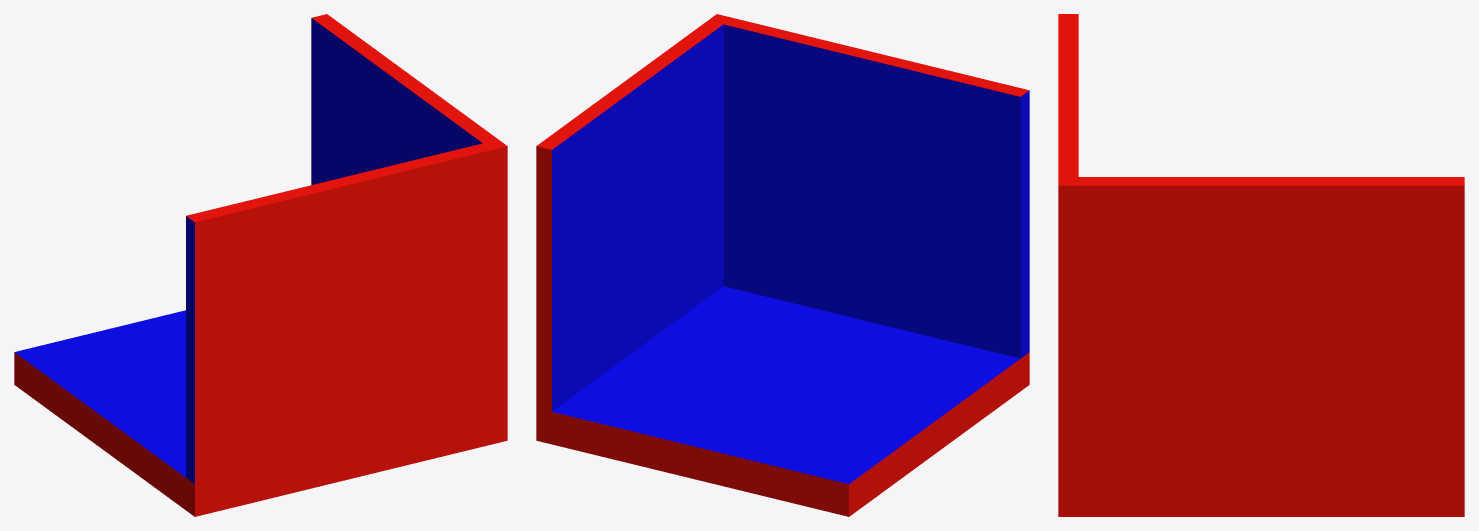
Rendered from corner.obj.
The picture shows the model from 3 angles, left to right: view 1: azimuth 30°, elevation 25°; view 2: azimuth 150°, elevation 25°; view 3: azimuth 270°, elevation 25°; orthographic projection. The views are drawn at different scales.
Parts seen in each view (by area): view 1: wall3, floor, wall2; view 2: wall3, floor, wall2; view 3: wall2, floor, wall3.
Boxes of the visible parts, bbox=[...] form: wall3: bbox=[186, 142, 499, 483]; floor: bbox=[14, 310, 507, 516]; wall2: bbox=[311, 14, 507, 411]; wall3: bbox=[709, 14, 1029, 358]; floor: bbox=[536, 286, 1029, 516]; wall2: bbox=[536, 14, 732, 411]; wall2: bbox=[1058, 177, 1464, 480]; floor: bbox=[1058, 480, 1464, 516]; wall3: bbox=[1058, 14, 1078, 480].
Size of the model in its own units: 10 by 9 by 10.
